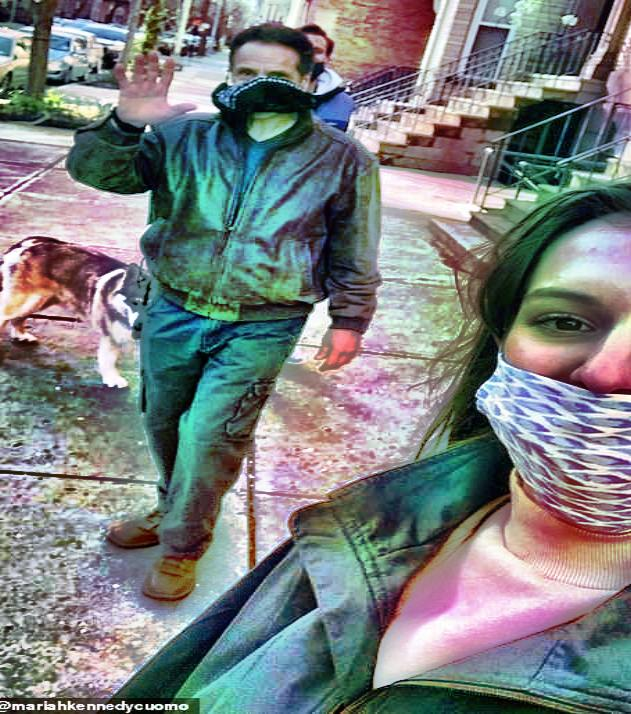mask_weared_incorrect: (471, 177, 631, 532)
